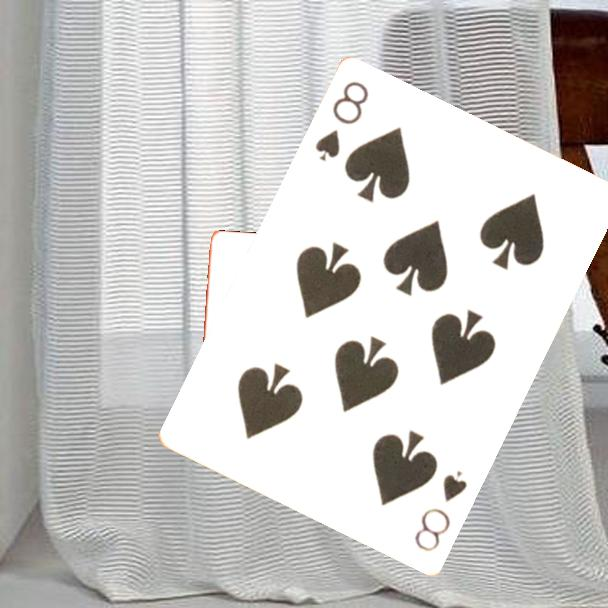s08: (410, 467, 471, 556), (311, 78, 372, 165)
